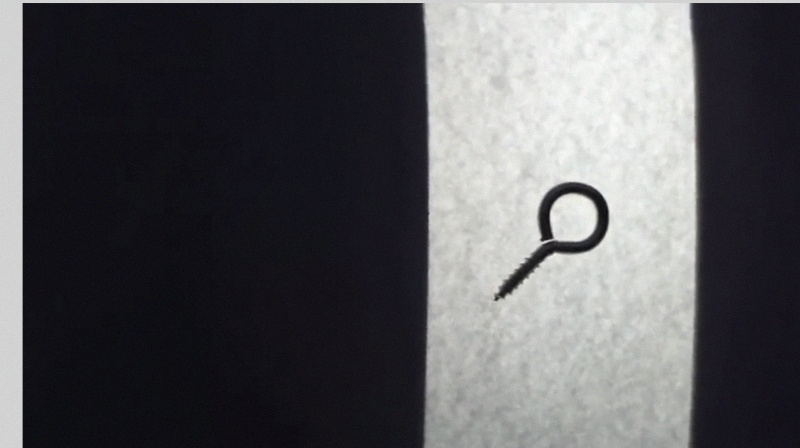O001: (485, 177, 615, 311)
